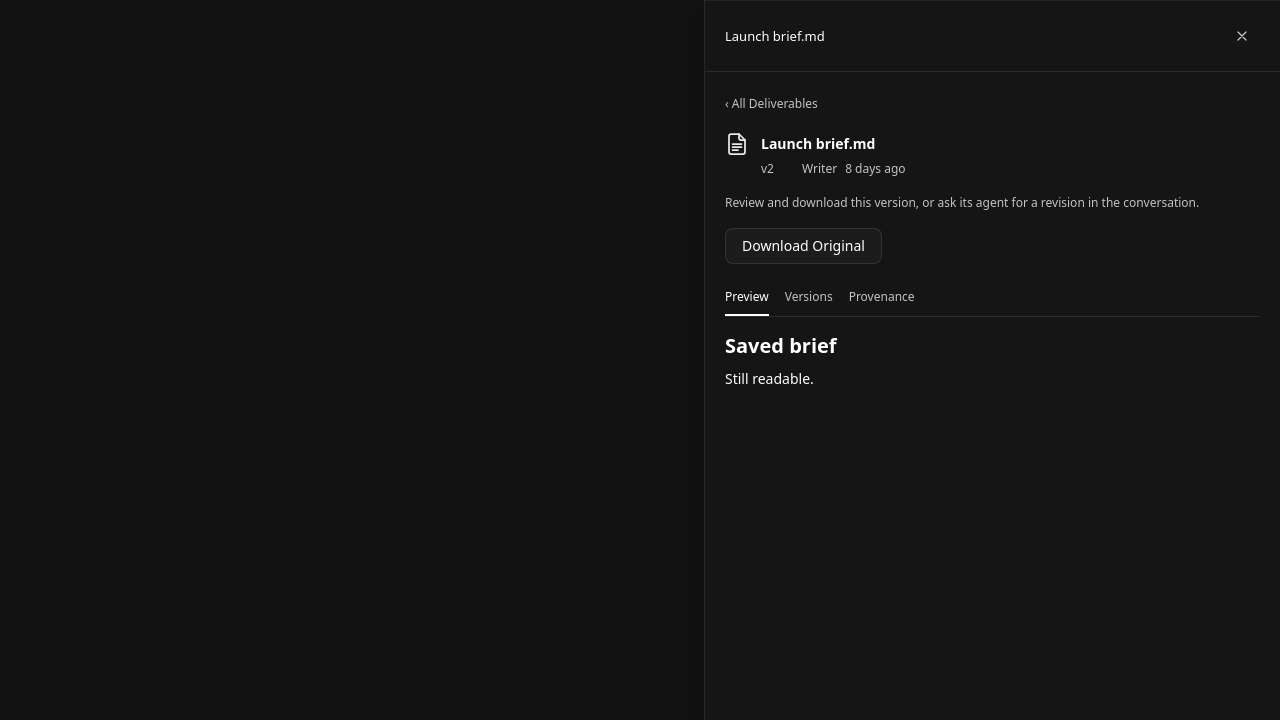
an unavailable version history does not block the saved preview
This screenshot has width=1280, height=720.
Expected: the heading "Saved brief" is shown, [725,332,837,359]
Expected: the link "Download Original" is shown, [725,228,882,264]
Click the button "Versions": x=809, y=298 [785,280,833,316]
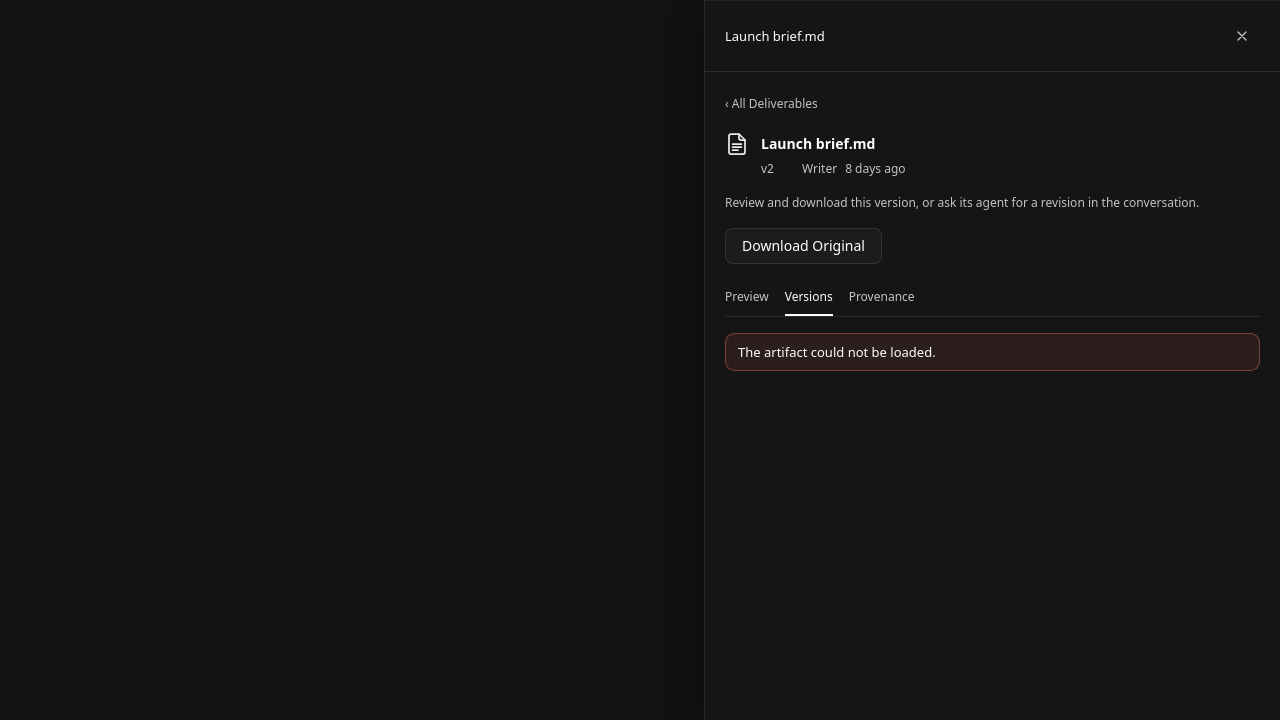
Expected: the text "The artifact could not be loaded." is shown, [725,333,1260,371]
